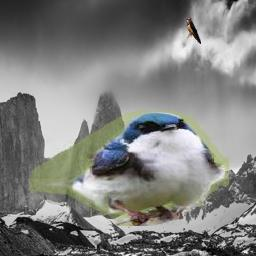Swallow: (29, 110, 229, 226), (187, 16, 202, 44)
